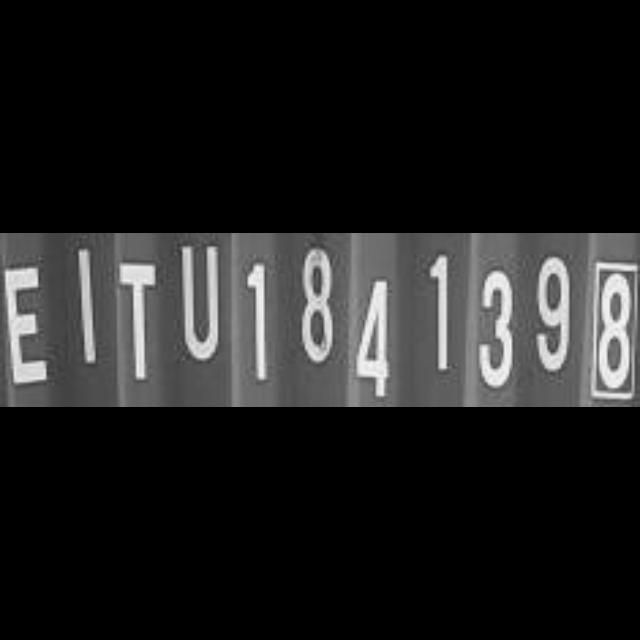1: (420, 242, 458, 378), (244, 260, 280, 390)
3: (475, 263, 519, 393)
4: (349, 272, 398, 400)
8: (290, 238, 336, 364), (594, 265, 634, 393)
9: (530, 248, 572, 382)
e: (0, 251, 56, 401)
i: (64, 238, 106, 374)
t: (117, 254, 163, 388)
u: (176, 240, 228, 364)
